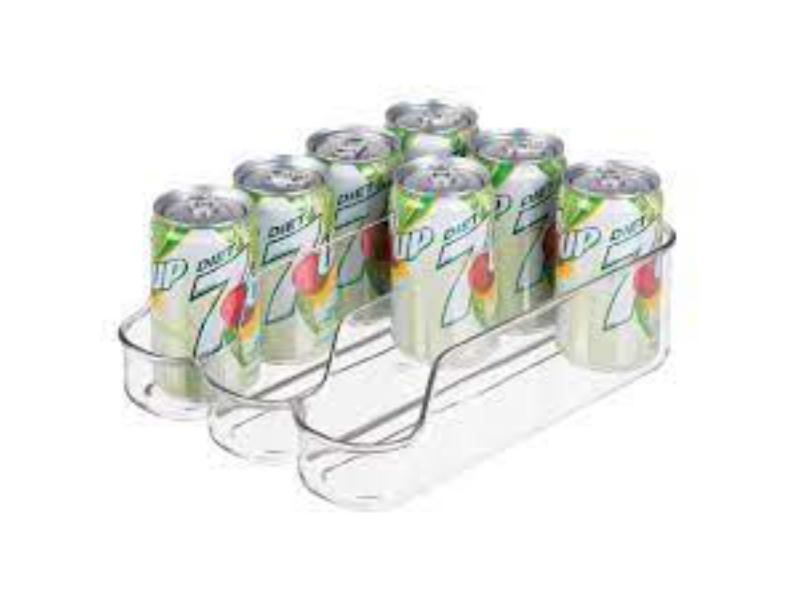can: (555, 160, 679, 371), (147, 177, 260, 404), (387, 155, 502, 369), (248, 153, 339, 368), (333, 121, 403, 326), (389, 94, 482, 143), (469, 126, 577, 167)
